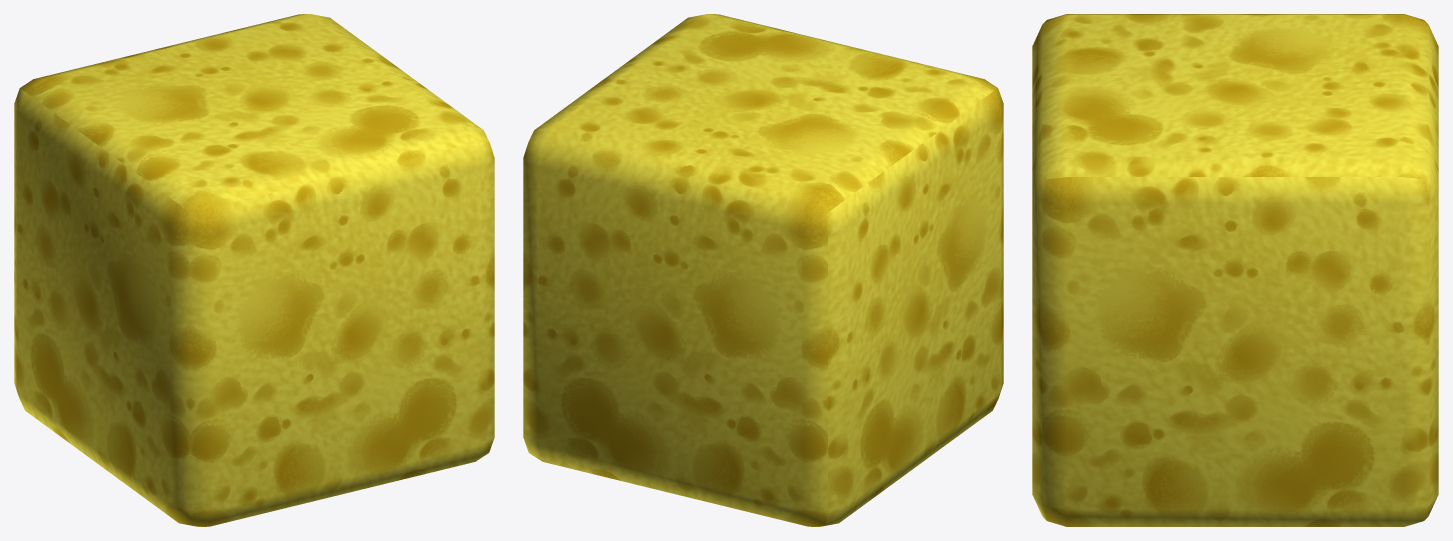
The model's file is spongesquare4.fbx.
The picture shows the model from 3 angles, left to right: view 1: azimuth 30°, elevation 25°; view 2: azimuth 150°, elevation 25°; view 3: azimuth 270°, elevation 25°; orthographic projection. The views are drawn at different scales.
Parts seen in each view (by area): view 1: Cube; view 2: Cube; view 3: Cube.
Boxes of the visible parts, x1,y1,x2,y2 form: Cube: (14, 14, 494, 526); Cube: (523, 14, 1003, 526); Cube: (1032, 14, 1438, 526).
Size of the model in its own units: 200 by 200 by 200.
Materials: 1 (1 with a texture image).
